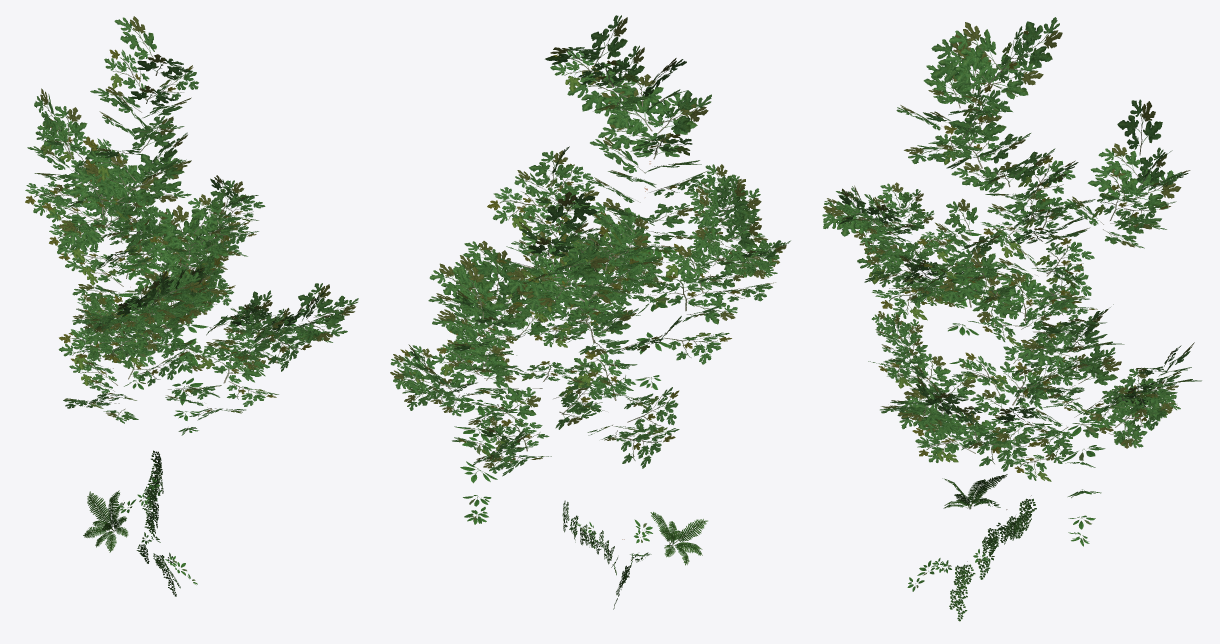
Rendered from Mangled_Fig.FBX.
3 renders of one model, left to right at view 1: azimuth 30°, elevation 25°; view 2: azimuth 150°, elevation 25°; view 3: azimuth 270°, elevation 25°, orthographic. The views are drawn at different scales.
Visible parts, largest first — view 1: Mangled_Fig; view 2: Mangled_Fig; view 3: Mangled_Fig.
Part boxes in pixels (box(x1,y1,x2,y2)): Mangled_Fig: box(25, 16, 358, 596); Mangled_Fig: box(390, 15, 790, 609); Mangled_Fig: box(822, 17, 1201, 621).
Size of the model in its own units: 980 by 1778 by 1026.
